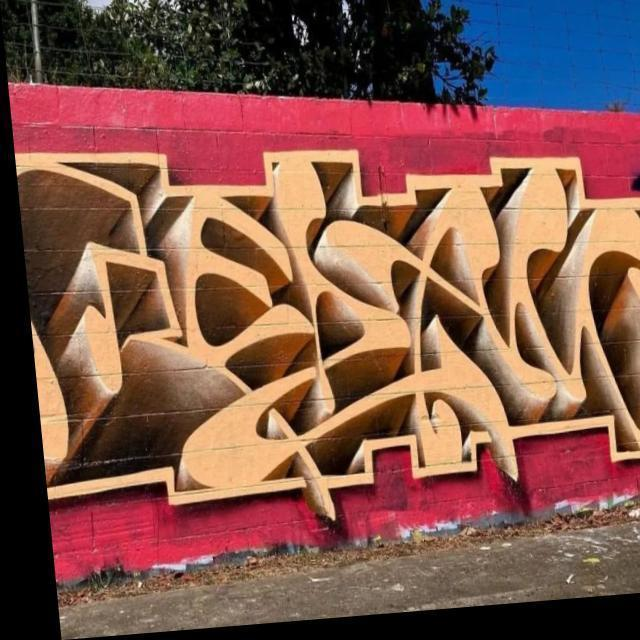nonspitting: (14, 150, 640, 526)
